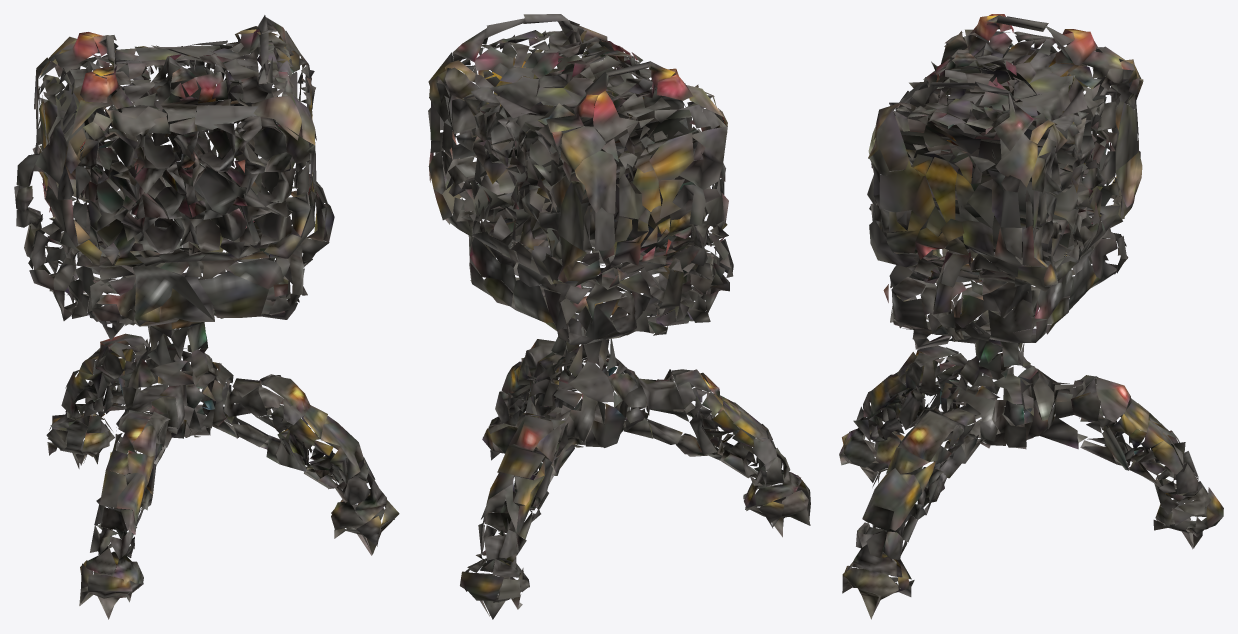
The model's file is turret-missile.glb.
3 views of the same model, side by side, from view 1: azimuth 30°, elevation 25°; view 2: azimuth 150°, elevation 25°; view 3: azimuth 270°, elevation 25° (orthographic).
Parts seen in each view (by area): view 1: Mesh_0; view 2: Mesh_0; view 3: Mesh_0.
Boxes of the visible parts, bbox=[...] form: Mesh_0: bbox=[14, 15, 399, 619]; Mesh_0: bbox=[428, 14, 810, 619]; Mesh_0: bbox=[839, 14, 1223, 619].
Bounding box in the file's own units: 1.26 × 1.89 × 1.3.
Materials: 1 (1 with a texture image).
